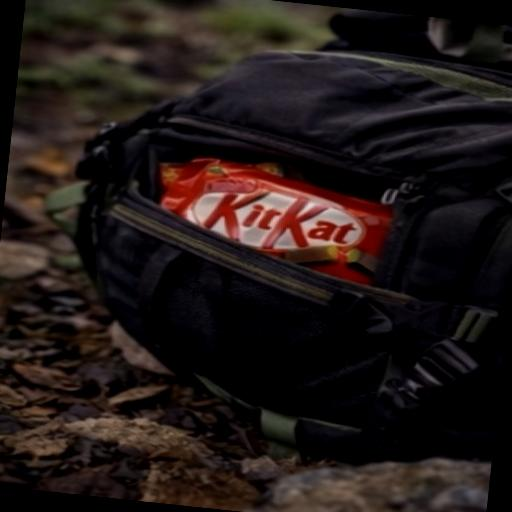kitkat: (102, 106, 466, 336)
